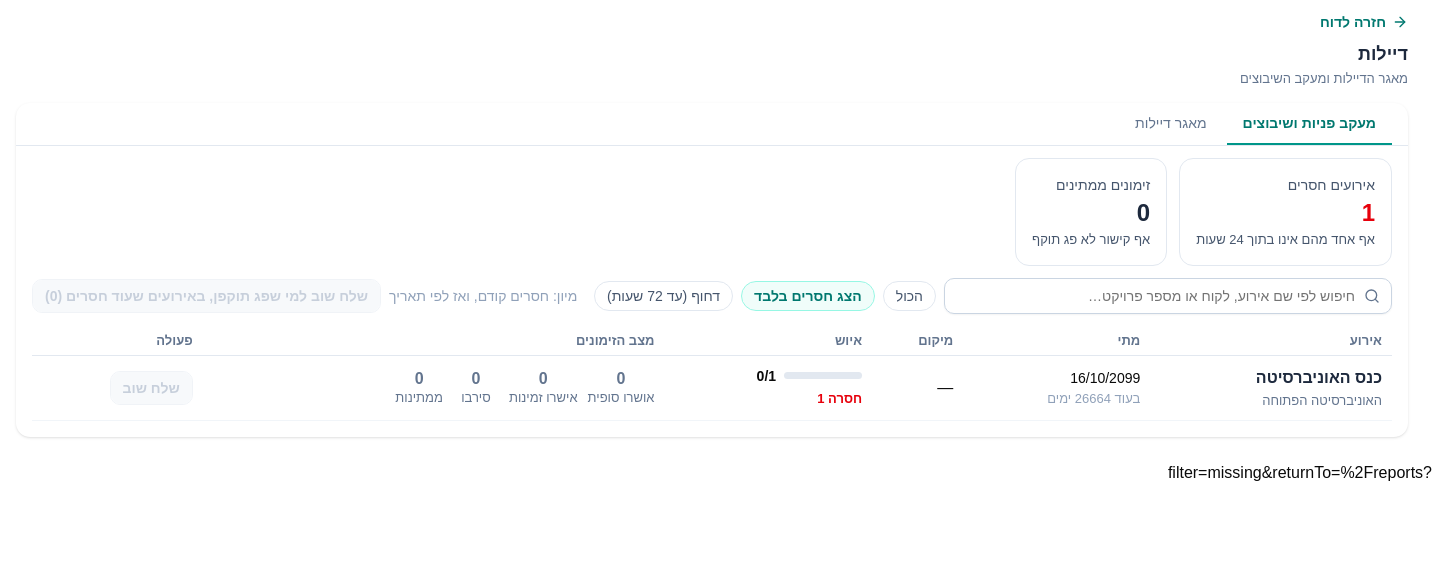
it: Hostesses search across both real tabs › combines case-insensitive search with staffing filters and clears only search
Check: the row with test id "overview-row-701" is shown, box x1=32 y1=356 x2=1392 y2=420
Type "ACME" into the field with test id "overview-search" at coordinates (1168, 296), box x1=944 y1=278 x2=1392 y2=314
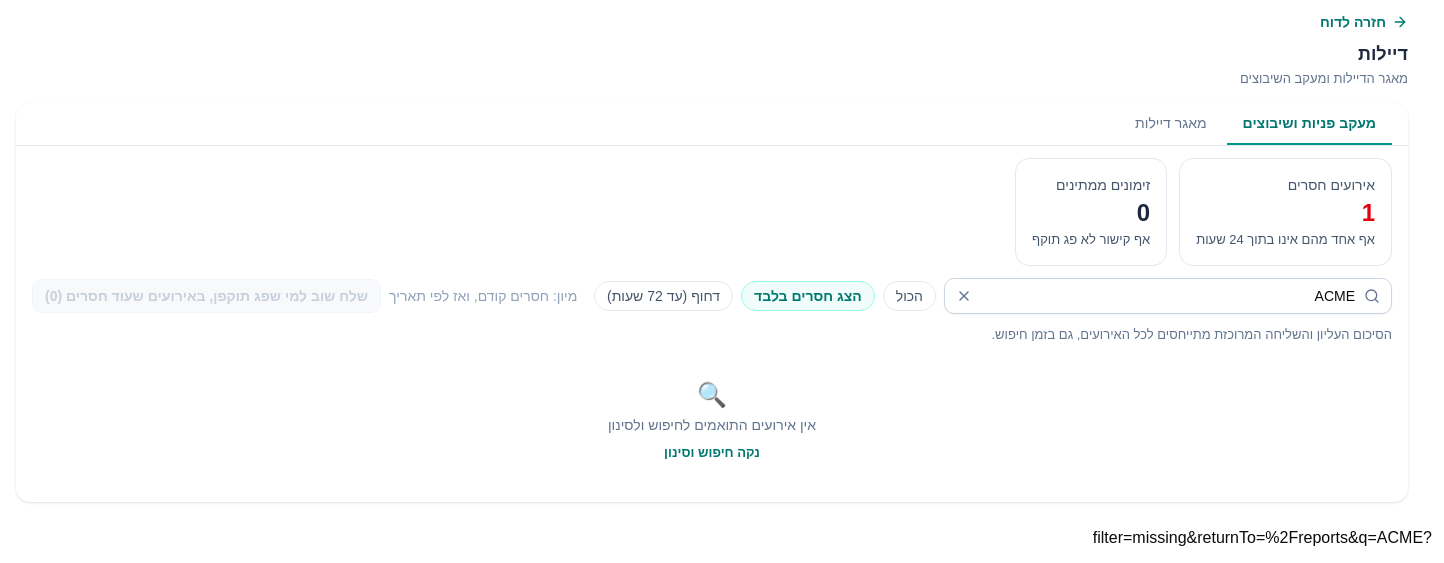
Check: the element with test id "overview-kpi-missing" shows "1", box x1=1362 y1=199 x2=1375 y2=226
Check: the element with test id "overview-empty-filtered" is shown, box x1=608 y1=381 x2=816 y2=462
Click the button with test id "overview-filter-all" at coordinates (909, 296), box x1=883 y1=281 x2=936 y2=311
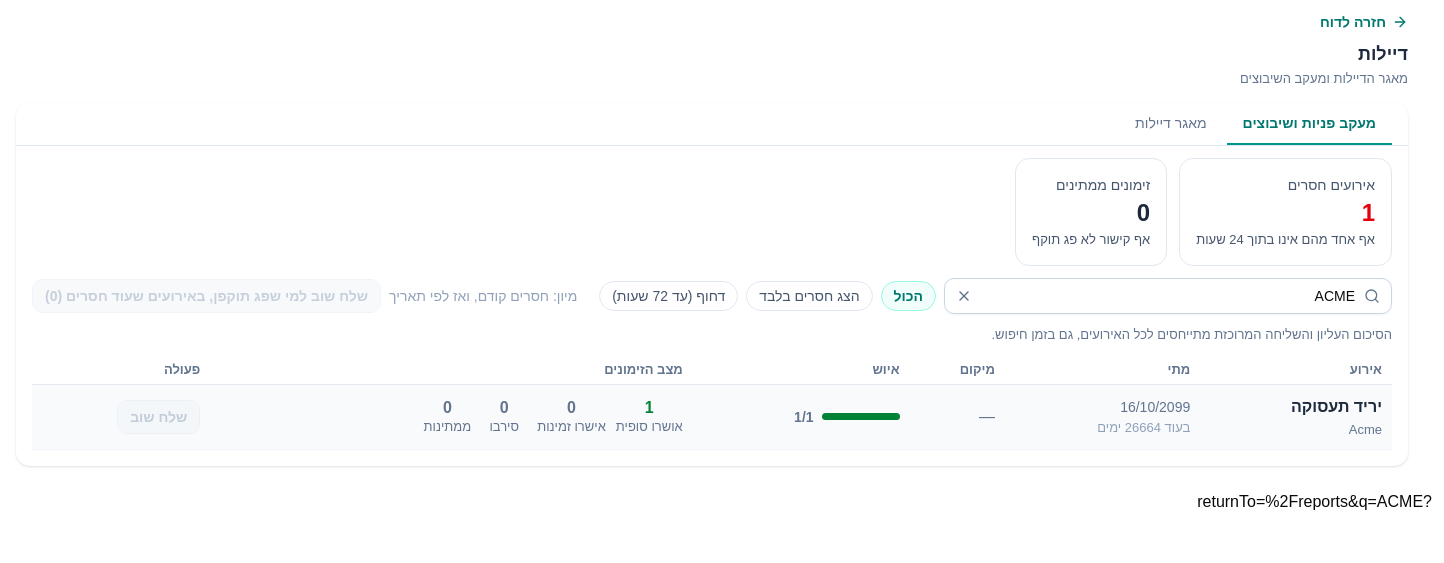
Check: the row with test id "overview-row-702" is shown, box x1=32 y1=385 x2=1392 y2=449
Click the button named "נקה חיפוש אירועים" at coordinates (964, 296), box x1=948 y1=280 x2=980 y2=312
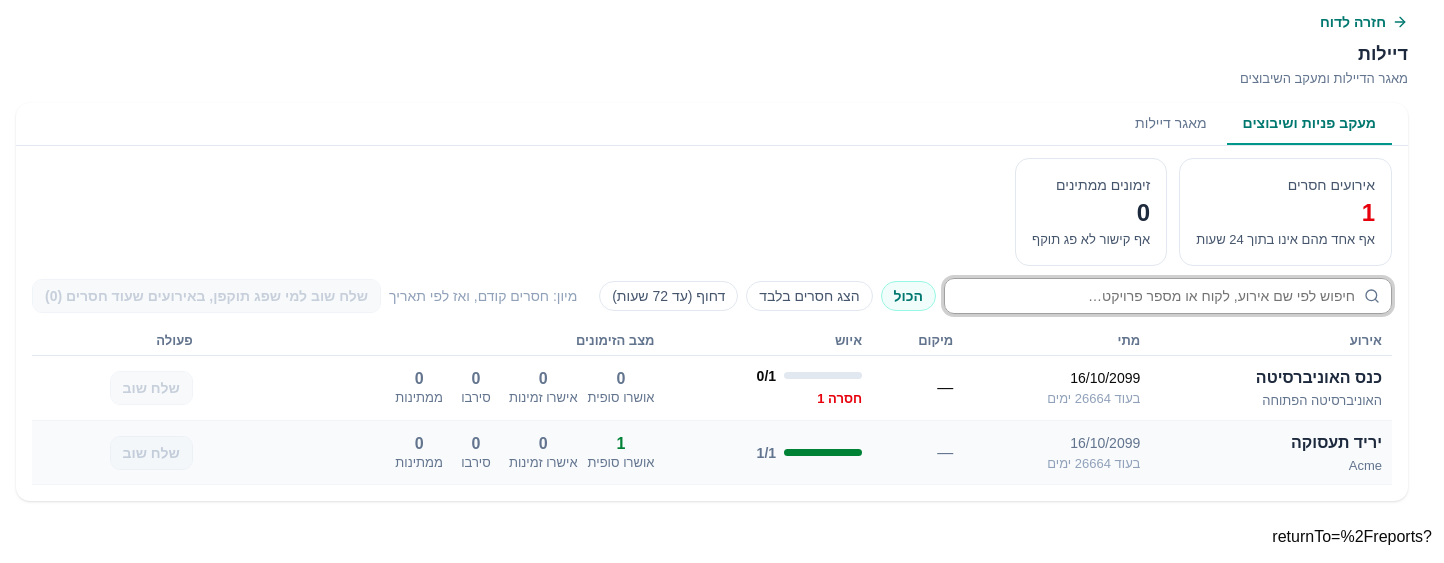
Check: the row with test id "overview-row-702" is shown, box x1=32 y1=420 x2=1392 y2=485
Check: the row with test id "overview-row-701" is shown, box x1=32 y1=356 x2=1392 y2=420
Check: the text with test id "search-url" no longer shows "q=", box x1=1272 y1=528 x2=1432 y2=545
